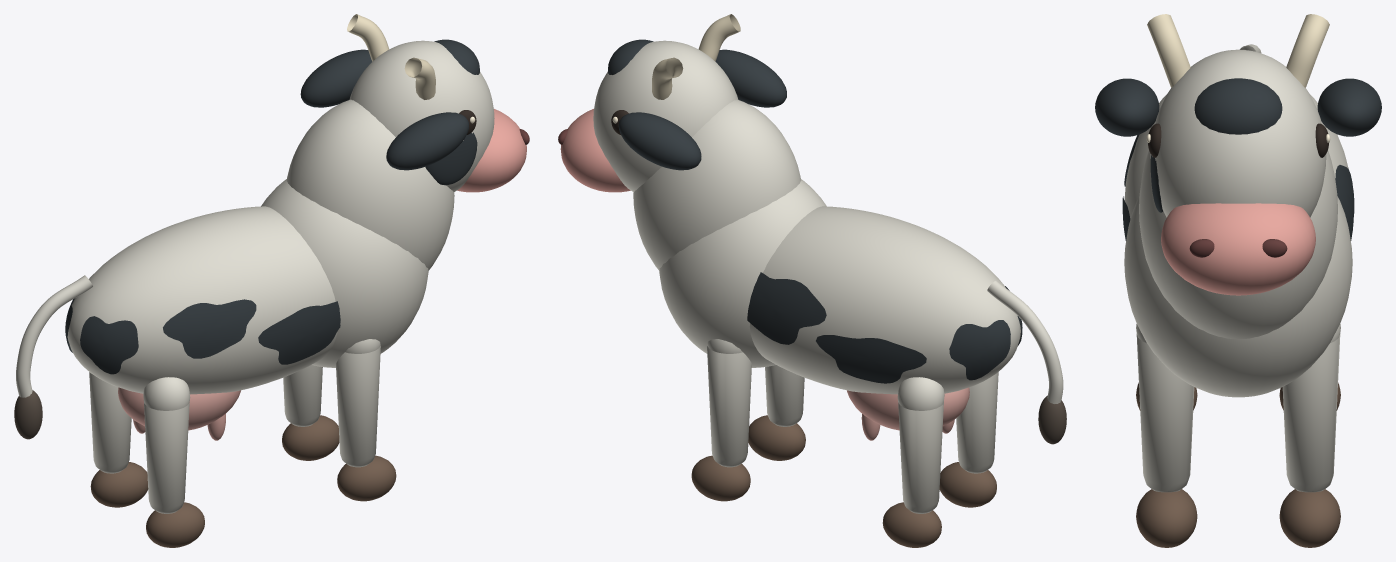
File: vaca.glb
The picture shows the model from 3 angles, left to right: view 1: azimuth 30°, elevation 25°; view 2: azimuth 150°, elevation 25°; view 3: azimuth 270°, elevation 25°; orthographic projection. The views are drawn at different scales.
Parts seen in each view (by area): view 1: Corpo, Pescoço, Peito, Cabeça, Perna dianteira esquerda, Perna traseira esquerda, Mancha da pelagem.003, Orelha, Mancha da pelagem.002, Perna traseira direita, Focinho, Orelha.001 (+14 smaller); view 2: Corpo, Pescoço, Peito, Cabeça, Perna dianteira direita, Perna traseira direita, Mancha da pelagem, Mancha da pelagem.001, Orelha.001, Perna traseira esquerda, Focinho, Mancha da pelagem.004 (+13 smaller); view 3: Cabeça, Peito, Focinho, Pescoço, Perna dianteira esquerda, Perna dianteira direita, Marca da testa, Orelha, Orelha.001, Perna dianteira esquerda casco, Perna dianteira direita casco, Corpo (+8 smaller).
Boxes of the visible parts, x1,y1,x2,y2 form: Corpo: (67, 206, 337, 394); Pescoço: (286, 99, 454, 270); Peito: (261, 179, 428, 367); Cabeça: (349, 40, 494, 191); Perna dianteira esquerda: (336, 346, 380, 467); Perna traseira esquerda: (143, 400, 189, 513); Mancha da pelagem.003: (163, 299, 256, 358); Orelha: (386, 112, 468, 170); Mancha da pelagem.002: (258, 301, 340, 364); Perna traseira direita: (89, 372, 131, 473); Focinho: (457, 109, 526, 192); Orelha.001: (300, 49, 372, 107); Corpo: (749, 206, 1020, 394); Pescoço: (633, 99, 801, 270); Peito: (659, 179, 826, 367); Cabeça: (593, 40, 738, 191); Perna dianteira direita: (707, 346, 751, 467); Perna traseira direita: (898, 402, 943, 513); Mancha da pelagem: (747, 272, 826, 344); Mancha da pelagem.001: (816, 335, 926, 383); Orelha.001: (618, 112, 701, 170); Perna traseira esquerda: (956, 372, 998, 473); Focinho: (560, 109, 630, 192); Mancha da pelagem.004: (949, 320, 1010, 380); Cabeça: (1150, 49, 1326, 217); Peito: (1124, 196, 1352, 397); Focinho: (1161, 203, 1315, 295); Pescoço: (1139, 150, 1337, 338); Perna dianteira esquerda: (1136, 334, 1194, 492); Perna dianteira direita: (1282, 334, 1340, 492); Marca da testa: (1194, 78, 1282, 134); Orelha: (1095, 78, 1159, 136); Orelha.001: (1317, 78, 1381, 136); Perna dianteira esquerda casco: (1136, 489, 1197, 547); Perna dianteira direita casco: (1279, 489, 1340, 547); Corpo: (1124, 94, 1348, 218).
Bounding box in the file's own units: 2.56 × 2.11 × 0.98.
